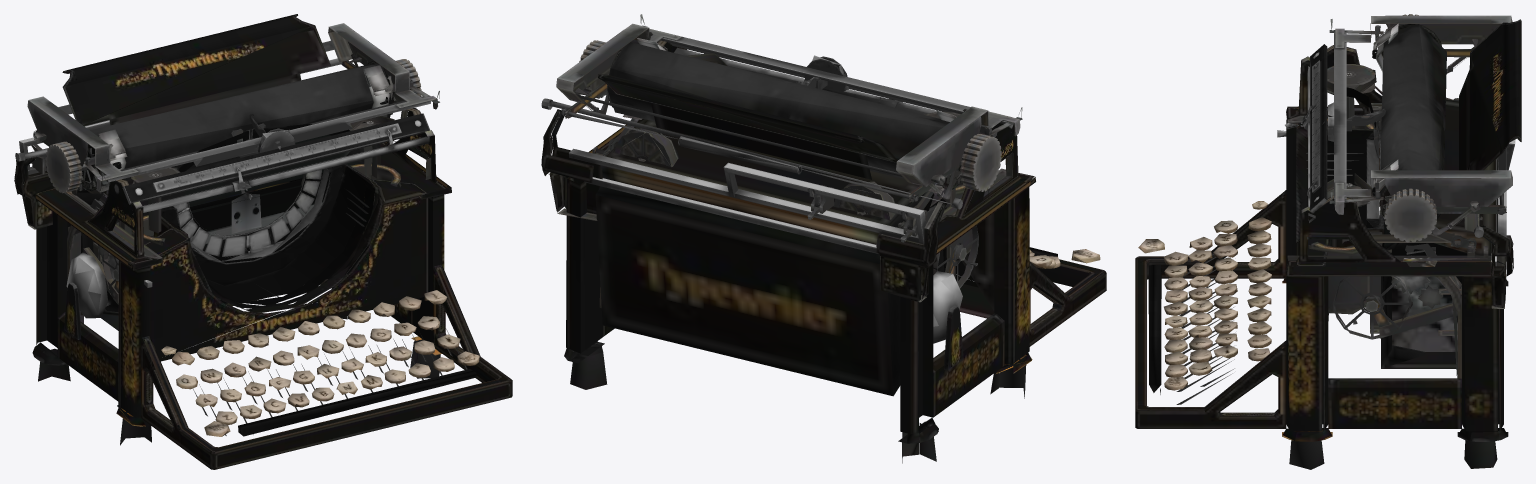
Rendered from obj_victorian_typewriter.glb.
3 views of the same model, side by side, from view 1: azimuth 30°, elevation 25°; view 2: azimuth 150°, elevation 25°; view 3: azimuth 270°, elevation 25° (orthographic). The views are drawn at different scales.
Visible parts, largest first — view 1: Maquina_de_escribir:maquina1_Rodillo_0; view 2: Maquina_de_escribir:maquina1_Rodillo_0; view 3: Maquina_de_escribir:maquina1_Rodillo_0.
Part boxes in pixels (bbox=[...]): Maquina_de_escribir:maquina1_Rodillo_0: bbox=[14, 14, 512, 469]; Maquina_de_escribir:maquina1_Rodillo_0: bbox=[541, 14, 1106, 463]; Maquina_de_escribir:maquina1_Rodillo_0: bbox=[1135, 14, 1521, 469].
Size of the model in its own units: 0.4 by 0.3035 by 0.3439.
Materials: 5 (5 with a texture image).
